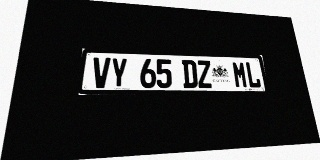5: (156, 59, 172, 88)
6: (140, 59, 156, 88)
D: (182, 60, 198, 88)
L: (245, 62, 262, 88)
M: (232, 61, 248, 88)
V: (92, 57, 110, 88)
Y: (110, 58, 127, 88)
Z: (196, 60, 213, 88)
